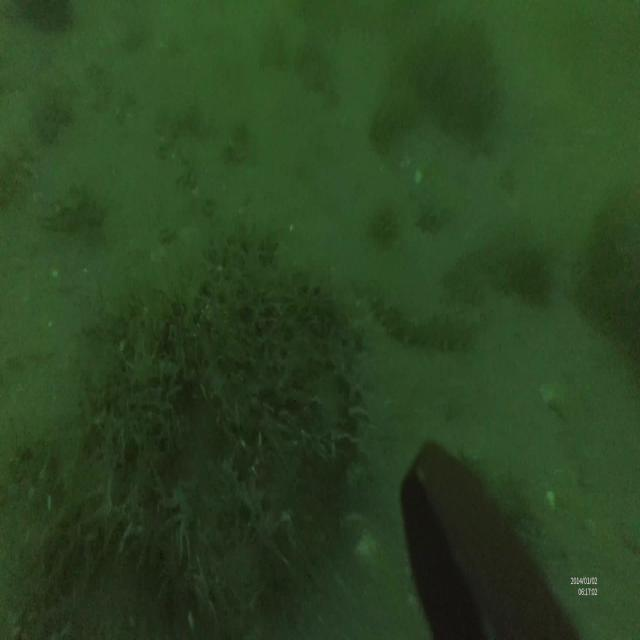holothurian: (373, 292, 479, 349)
